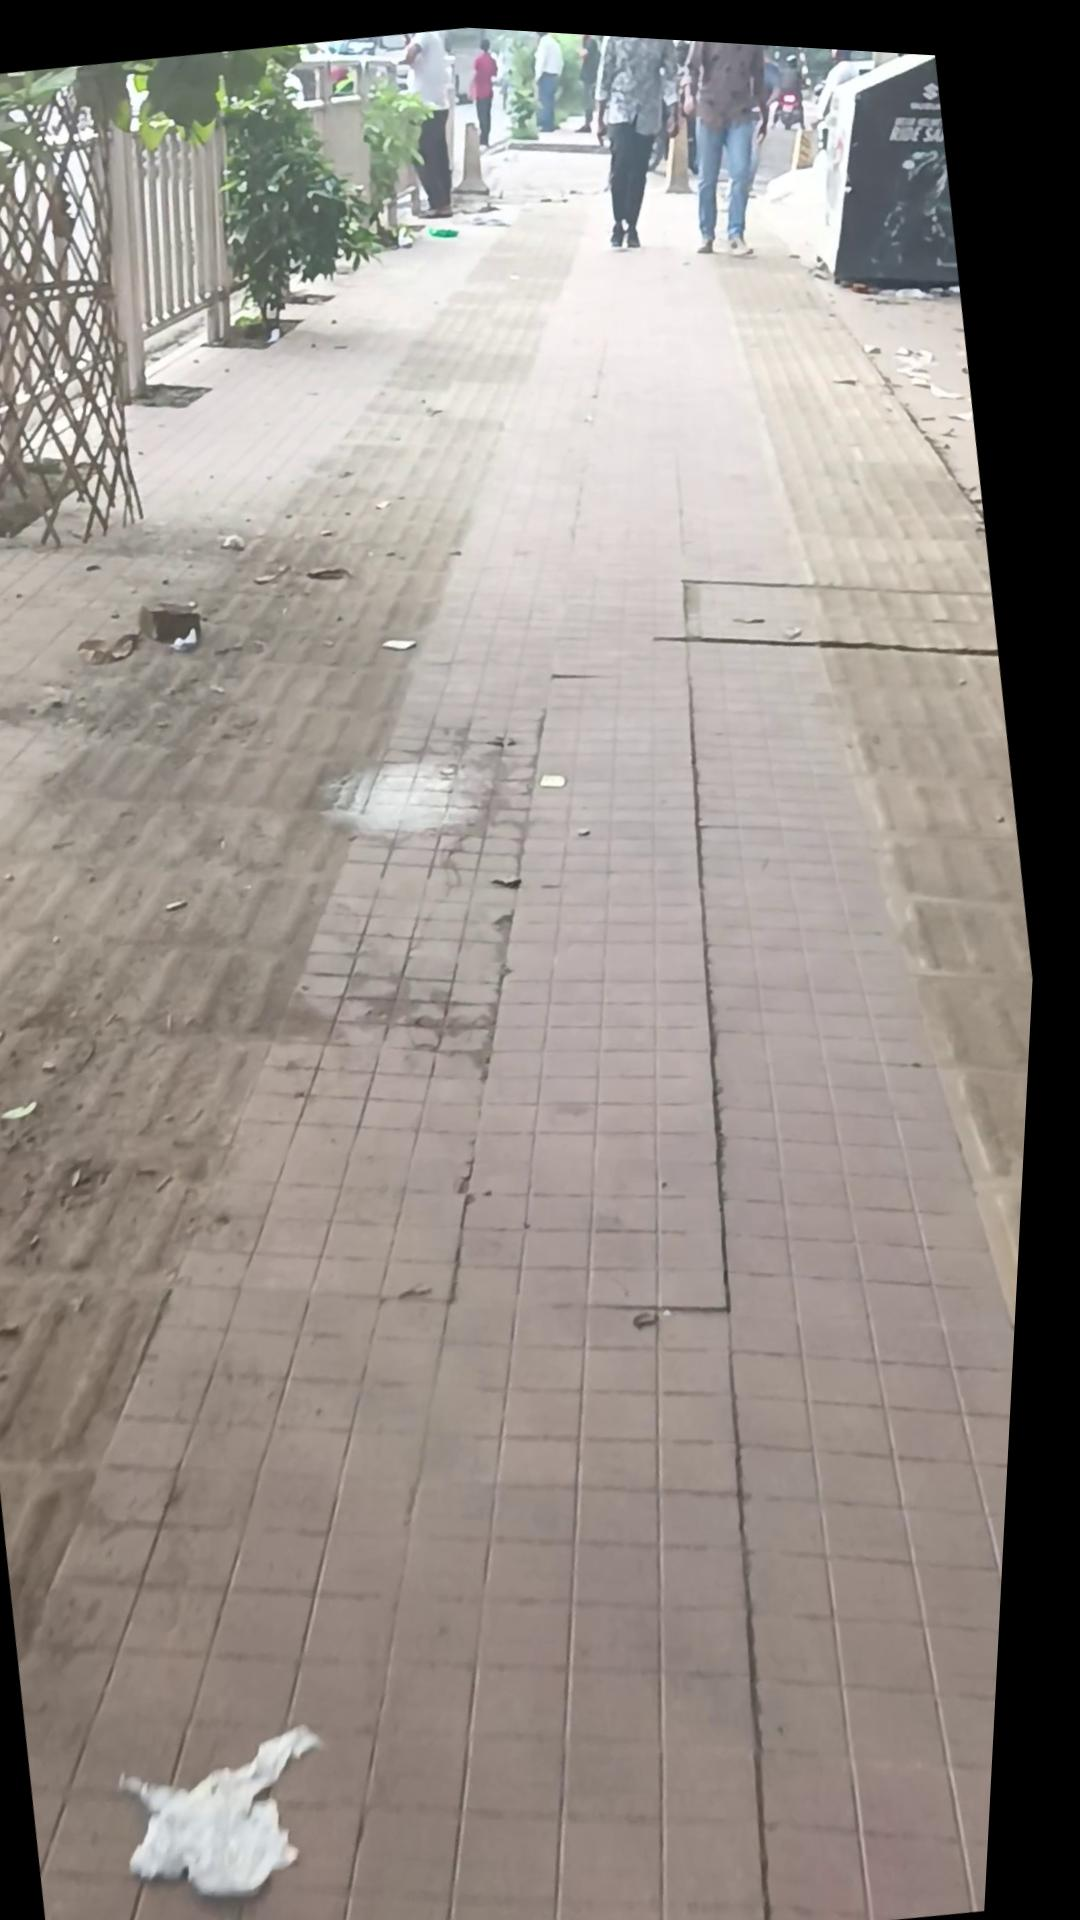Cat: (796, 38, 969, 297)
Crosswalk: (654, 182, 1073, 1629)
Fallen-tree: (0, 62, 177, 575)
Fence: (121, 1705, 365, 1915)
Muddy road: (658, 32, 796, 256), (571, 26, 705, 245), (388, 21, 477, 216), (458, 28, 510, 144), (556, 26, 612, 128), (520, 25, 574, 127)
Potted-plant: (0, 18, 1079, 1920)
Rickshaw: (442, 111, 495, 193), (657, 121, 698, 189)
